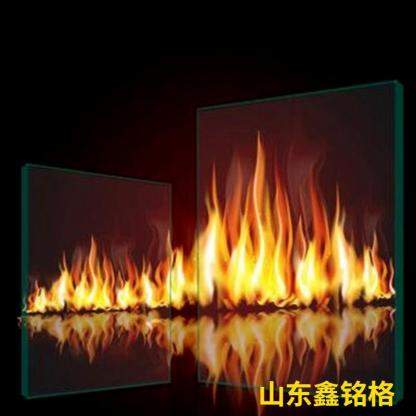fire: (24, 136, 396, 317)
